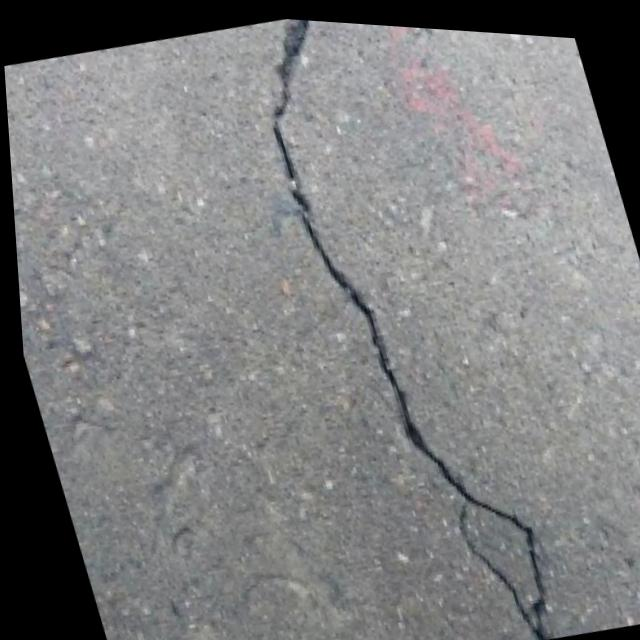Crack: (199, 10, 589, 640)
